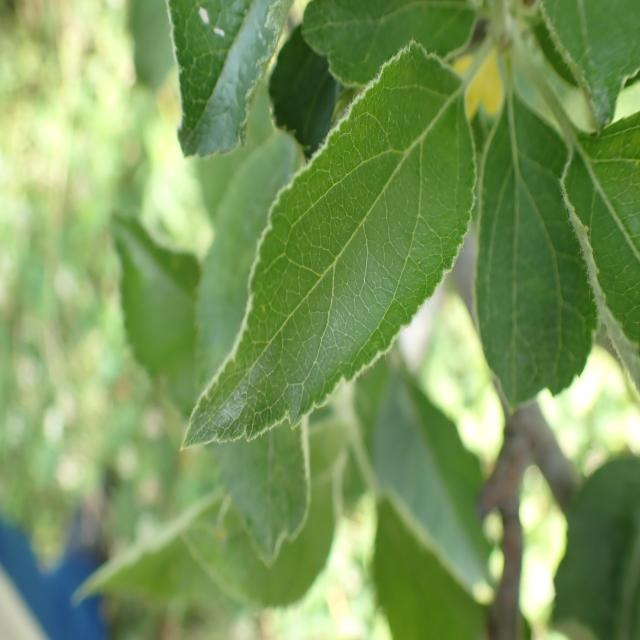healthy: (180, 39, 478, 449), (472, 86, 604, 414), (560, 109, 640, 397), (165, 0, 290, 159), (300, 1, 479, 88), (537, 0, 640, 132)
